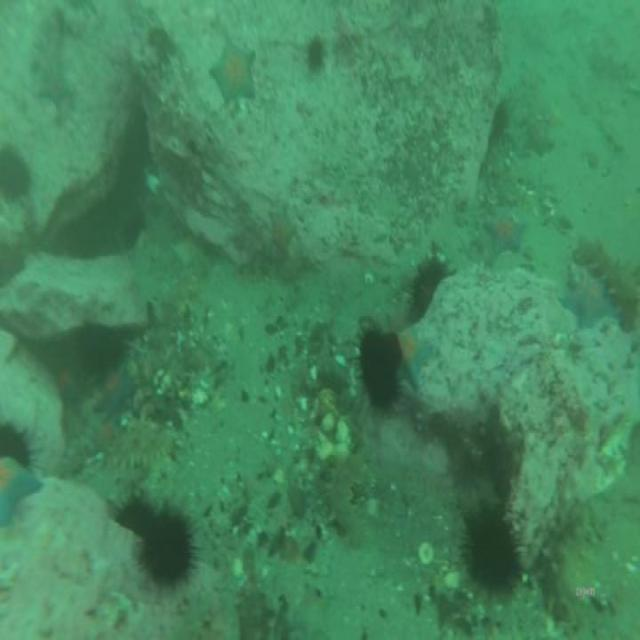echinus: (465, 512, 516, 589), (362, 332, 399, 408), (147, 520, 190, 585), (77, 324, 119, 389), (410, 261, 441, 316), (113, 499, 155, 531), (0, 155, 28, 197), (1, 428, 26, 469), (119, 210, 145, 247), (305, 41, 322, 71)
holothurian: (538, 502, 590, 628), (574, 236, 638, 330), (324, 452, 362, 550), (111, 418, 171, 464)
starfish: (209, 38, 257, 103), (559, 272, 616, 324), (0, 469, 40, 526), (94, 373, 134, 420), (399, 332, 431, 387), (487, 210, 523, 253), (52, 360, 80, 404), (268, 210, 296, 254), (522, 122, 556, 158), (41, 68, 71, 107)
